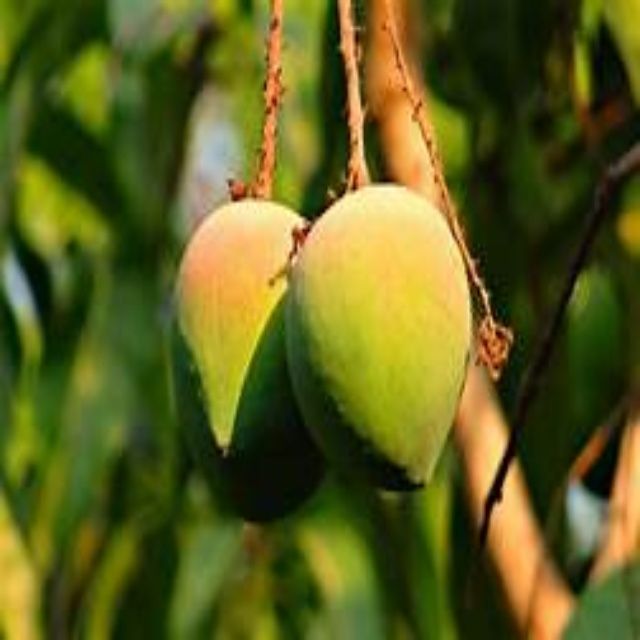mango: (289, 184, 465, 491), (164, 199, 324, 518)
